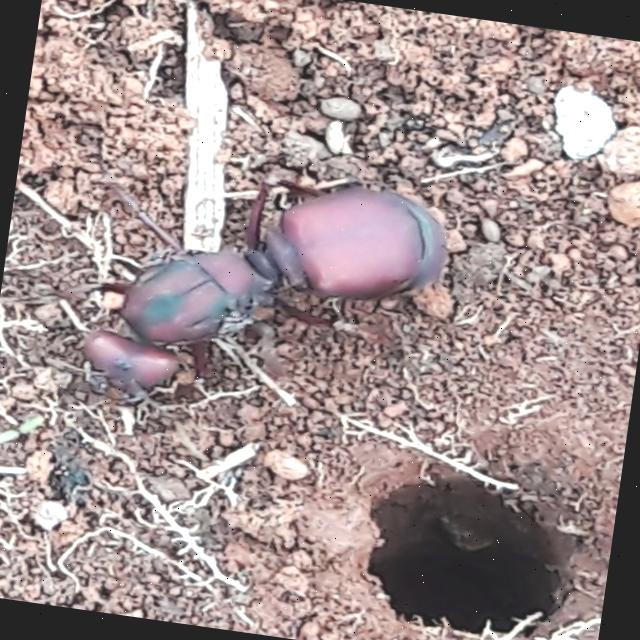Alive-Female-Dealate: (0, 137, 458, 448)
